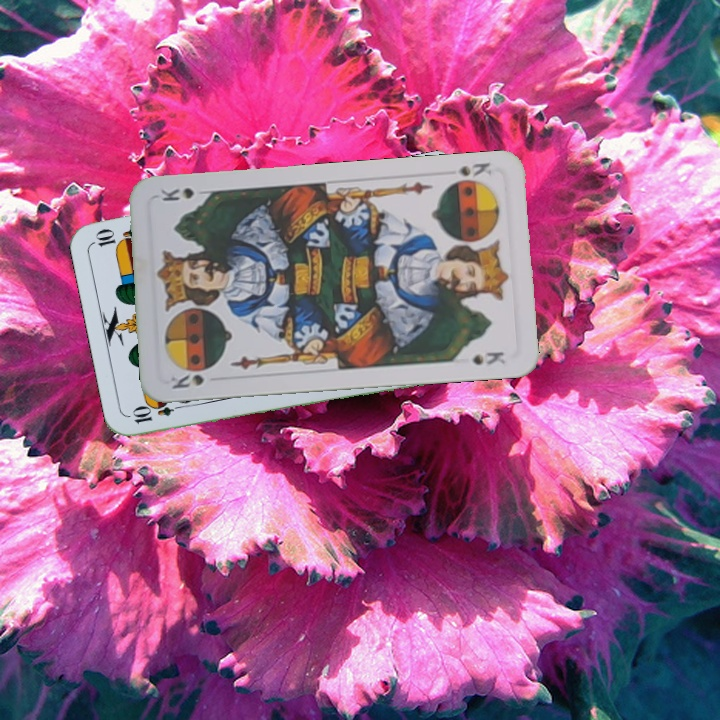E10: (128, 398, 187, 426)
SK: (166, 365, 214, 391), (454, 158, 494, 180)
